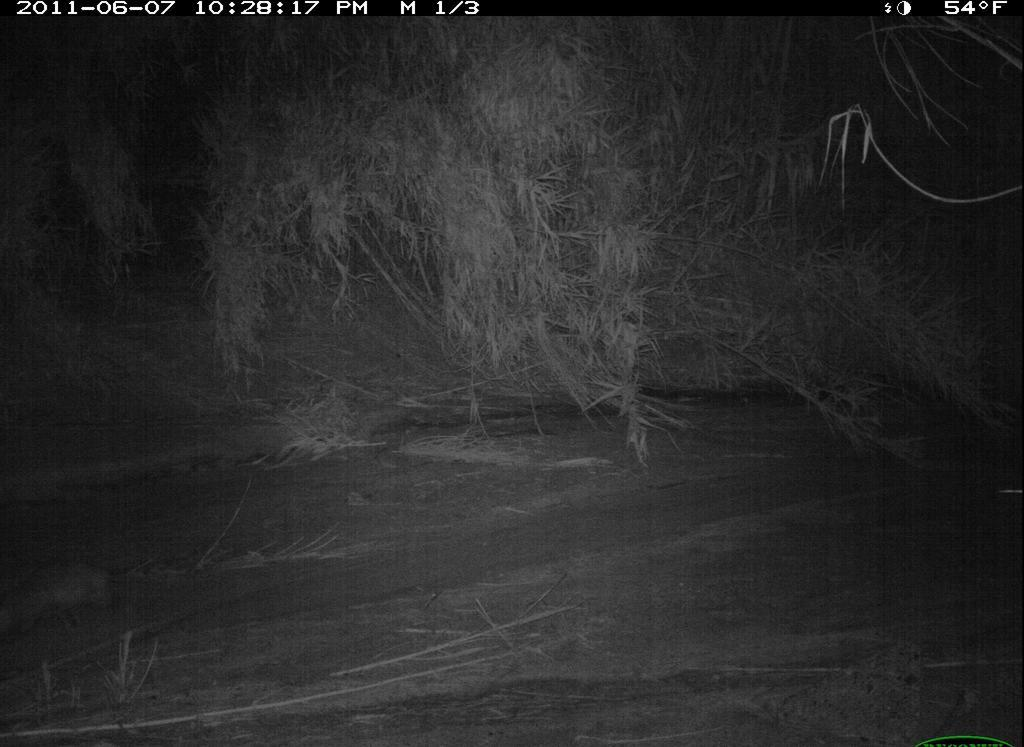opossum: (3, 551, 163, 662)
